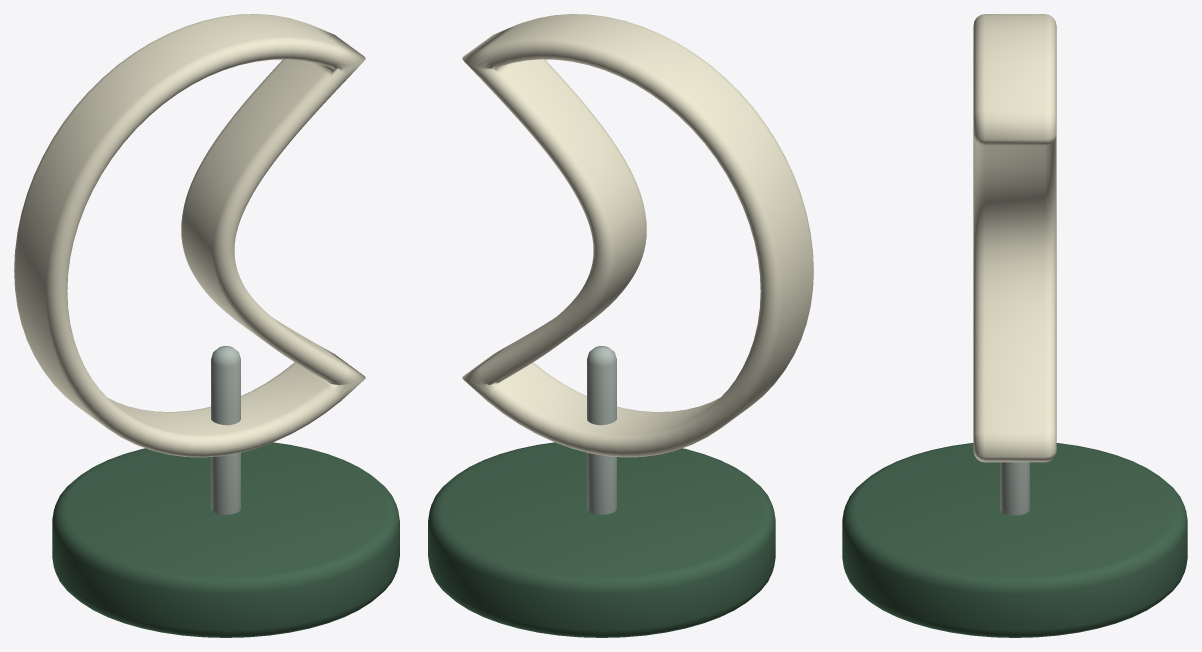
File: moon.glb
3 views of the same model, side by side, from view 1: azimuth 30°, elevation 25°; view 2: azimuth 150°, elevation 25°; view 3: azimuth 270°, elevation 25° (orthographic).
Parts seen in each view (by area): view 1: Moon crescent, Pedestal, Stem; view 2: Moon crescent, Pedestal, Stem; view 3: Pedestal, Moon crescent, Stem.
Part boxes in pixels (box(x1,y1,x2,y2)): Moon crescent: box(14, 14, 365, 457); Pedestal: box(52, 442, 399, 637); Stem: box(211, 346, 240, 514); Moon crescent: box(462, 14, 813, 457); Pedestal: box(428, 442, 775, 637); Stem: box(587, 346, 616, 514); Pedestal: box(842, 443, 1187, 637); Moon crescent: box(973, 14, 1056, 462); Stem: box(1000, 462, 1029, 515).
Bounding box in the file's own units: 1.2 × 1.77 × 1.04.
